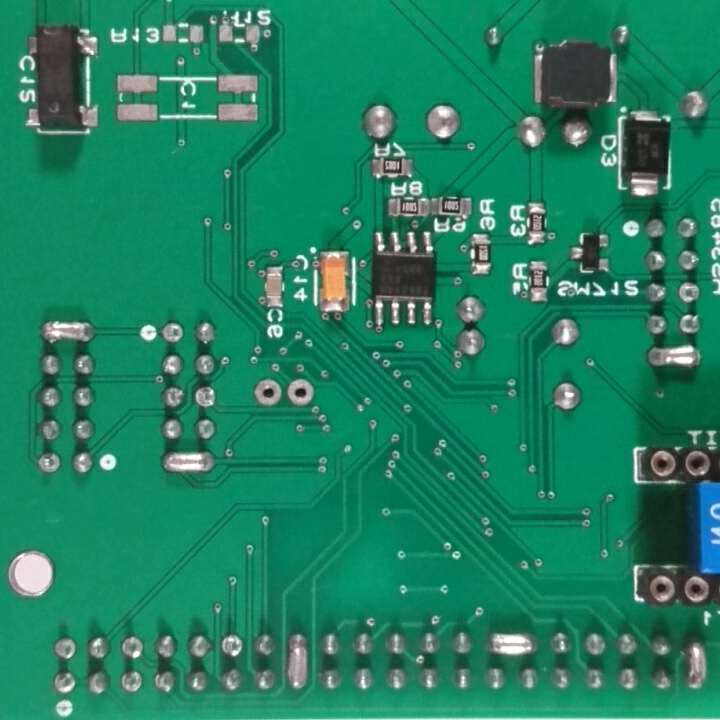F: (250, 377, 284, 409), (287, 378, 316, 412), (33, 447, 61, 478), (48, 665, 76, 695), (216, 633, 246, 660), (117, 669, 144, 698), (677, 279, 703, 306), (191, 383, 216, 411), (161, 318, 185, 346)
P: (33, 315, 97, 347), (641, 340, 704, 372), (159, 446, 216, 478), (484, 626, 539, 659), (284, 631, 311, 695), (683, 638, 710, 695)
